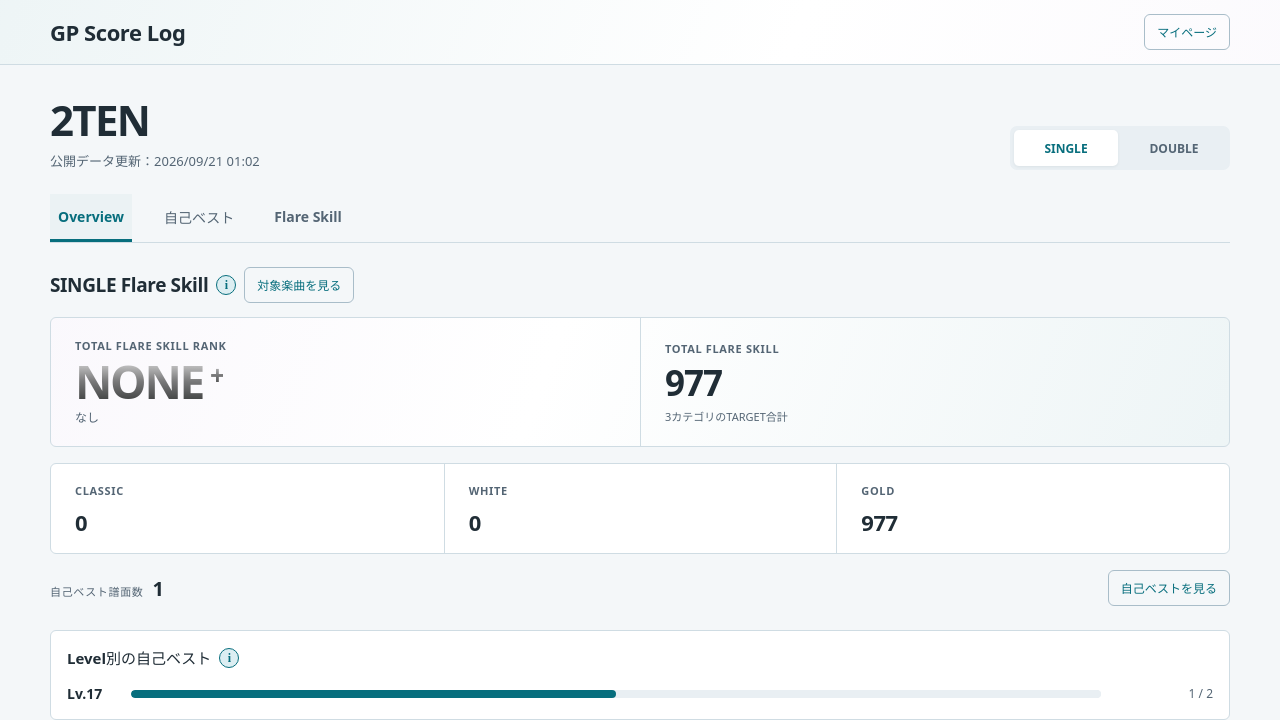
PlayerApp › renders Overview from bootstrap without an initial API request and switches global style
Expected: the heading "2TEN" is shown, [50,91,149,148]
Expected: the heading "SINGLE Flare Skill" is shown, [50,272,208,298]
Click the button "DOUBLE" at (1174, 148), box [1122,130,1226,166]
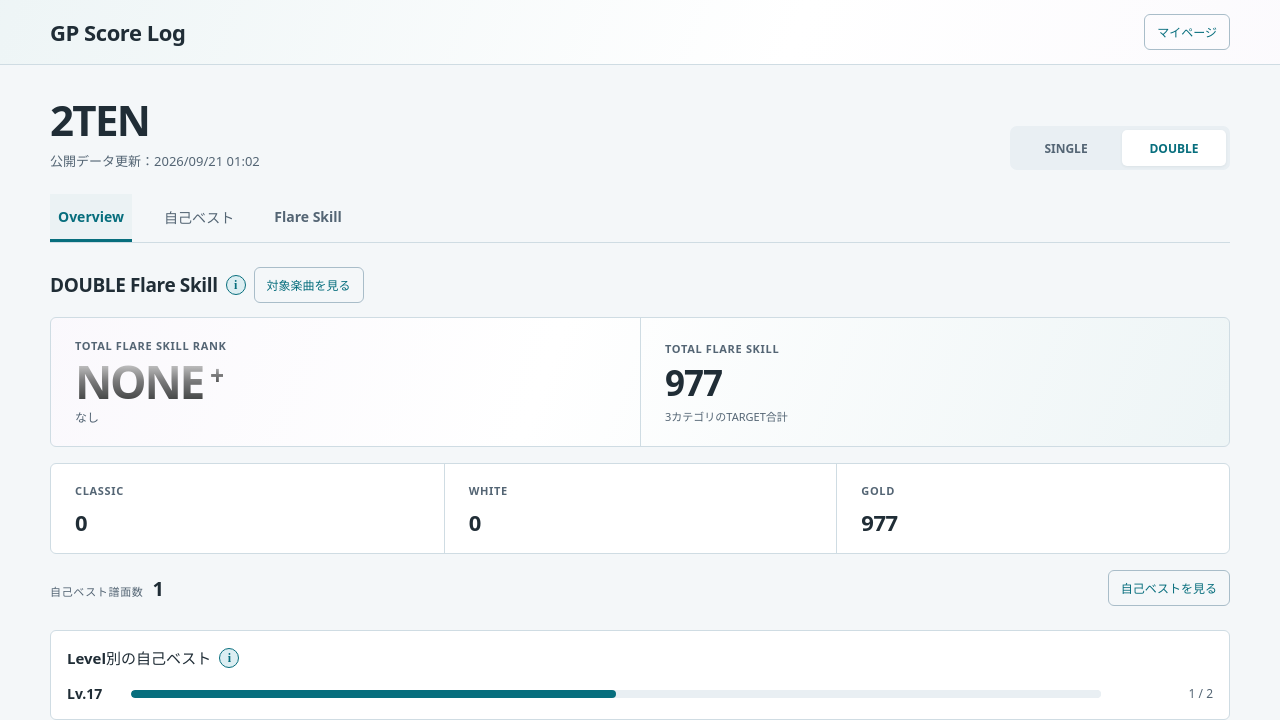
Expected: the heading "DOUBLE Flare Skill" is shown, [50,272,218,298]
